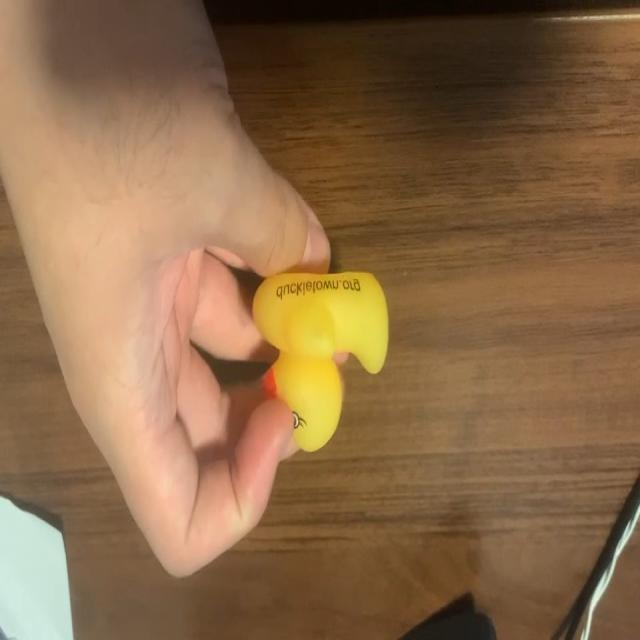rubber-duck: (252, 271, 386, 449)
